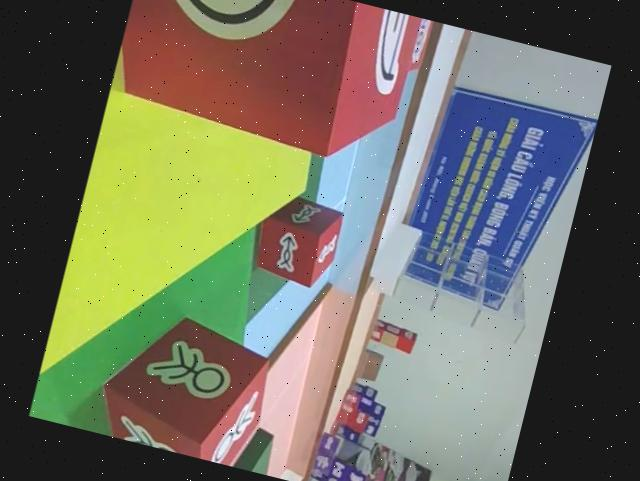R2 Real: (106, 0, 421, 169), (90, 298, 280, 470), (240, 185, 347, 290)
